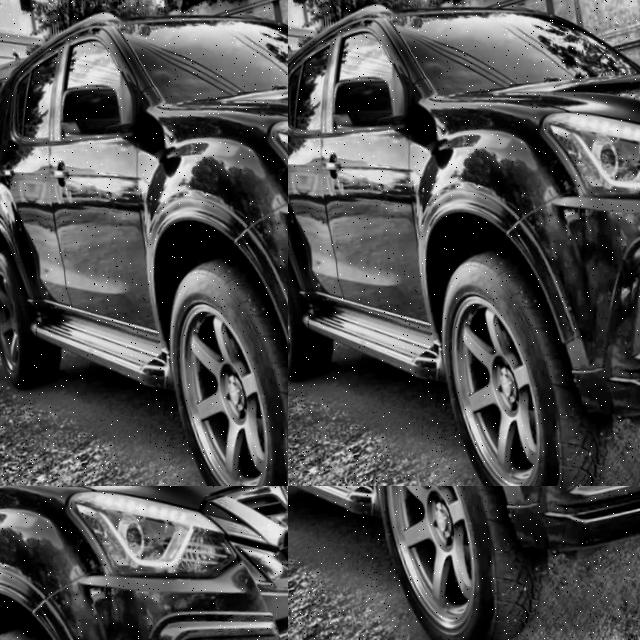license-plate: (288, 0, 617, 182)
